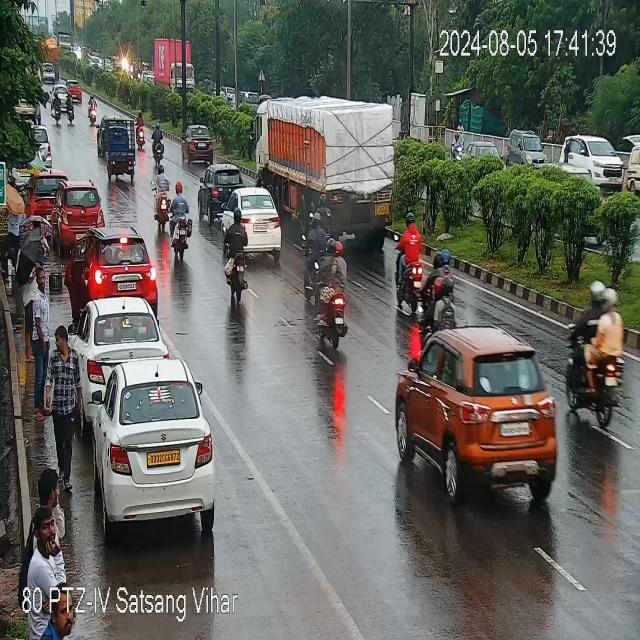2-wheelers: (565, 294, 627, 421), (396, 208, 434, 310), (319, 232, 350, 348), (424, 246, 463, 326), (218, 218, 255, 300), (170, 184, 199, 257), (303, 208, 322, 302), (150, 170, 173, 230), (50, 91, 80, 126), (152, 122, 164, 165), (86, 91, 99, 126), (136, 109, 145, 148)
auto: (100, 122, 140, 182)
car: (388, 328, 562, 497), (83, 355, 218, 525), (73, 294, 176, 374), (81, 228, 155, 294), (216, 188, 284, 246), (564, 130, 620, 196), (54, 186, 106, 237), (199, 167, 253, 216), (22, 170, 67, 213), (504, 125, 544, 170), (182, 123, 215, 163), (40, 60, 57, 87), (72, 81, 83, 103)
pedestrian: (48, 318, 84, 490), (32, 461, 68, 576), (34, 521, 67, 616), (28, 274, 52, 372), (22, 217, 49, 282), (6, 188, 23, 282)
truck: (259, 95, 395, 230), (150, 41, 200, 95), (57, 28, 73, 52)
